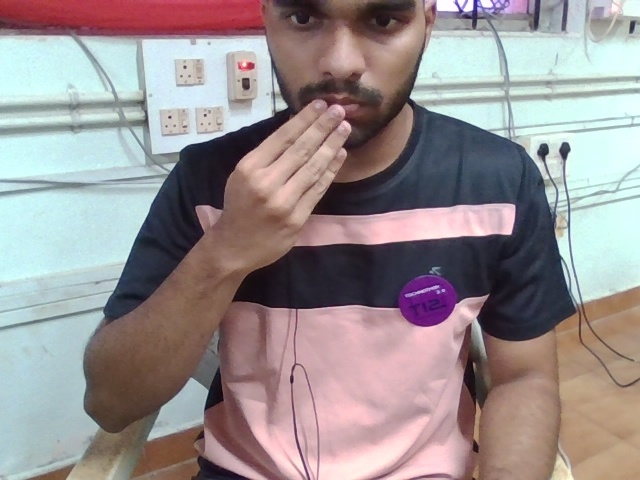eat: (212, 67, 397, 296)
